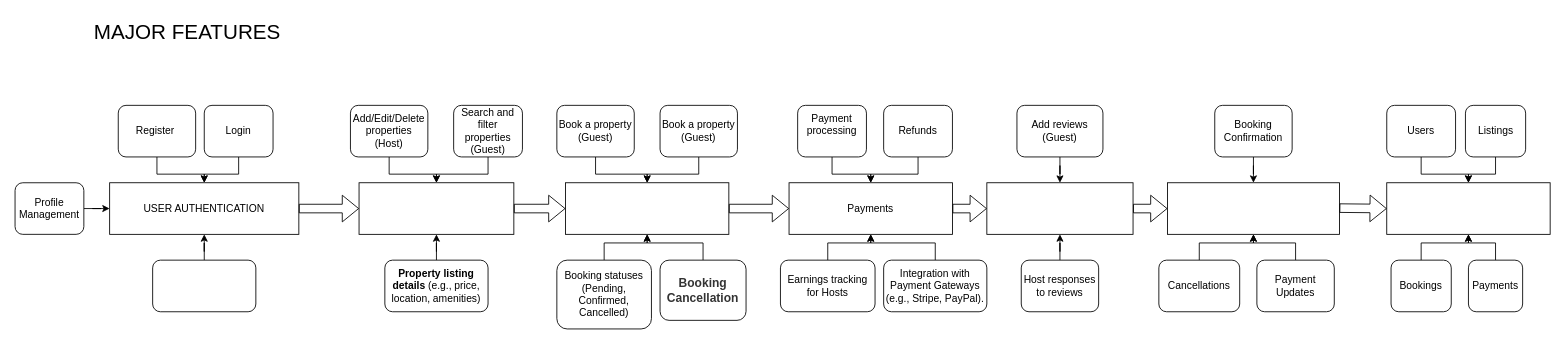
The diagram is 1565 pixels wide and 344 high, and some of its shapes have lost their labels. Each missing label, with the box of its shape:
Admin Dashboard: (1386, 182, 1550, 234)
Booking System: (565, 182, 729, 234)
Notification System: (1167, 182, 1339, 234)
Property Management: (358, 182, 514, 234)
Reviews and Ratings: (986, 182, 1133, 234)
Role-based access (Host vs. Guest): (152, 259, 256, 312)
